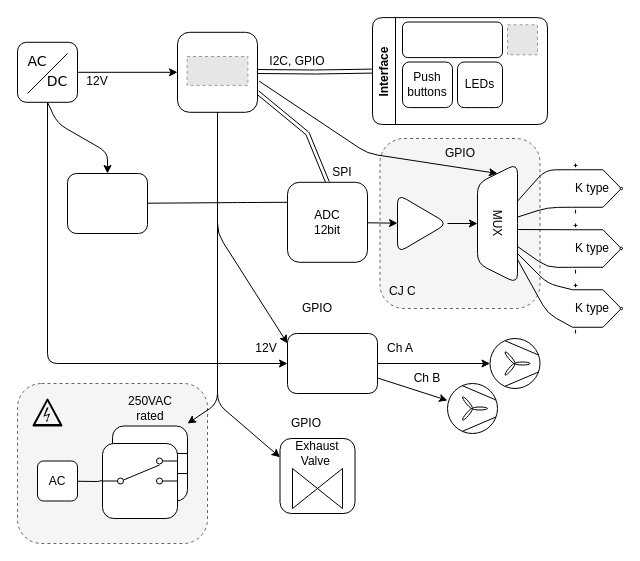
The diagram is 640 pixels wide and 561 high, and some of its shapes have lost their labels. Grey dashed boxes stand in for pictures. The shapes that lost their labels are listed below. From the top down, each one's centre as x and y in pixels, then its label:
At point 452,39: "LCD".
At point 107,203: "Linear voltage converter 5V".
At point 422,223: "PGA".
At point 332,363: "PWM Engine".
